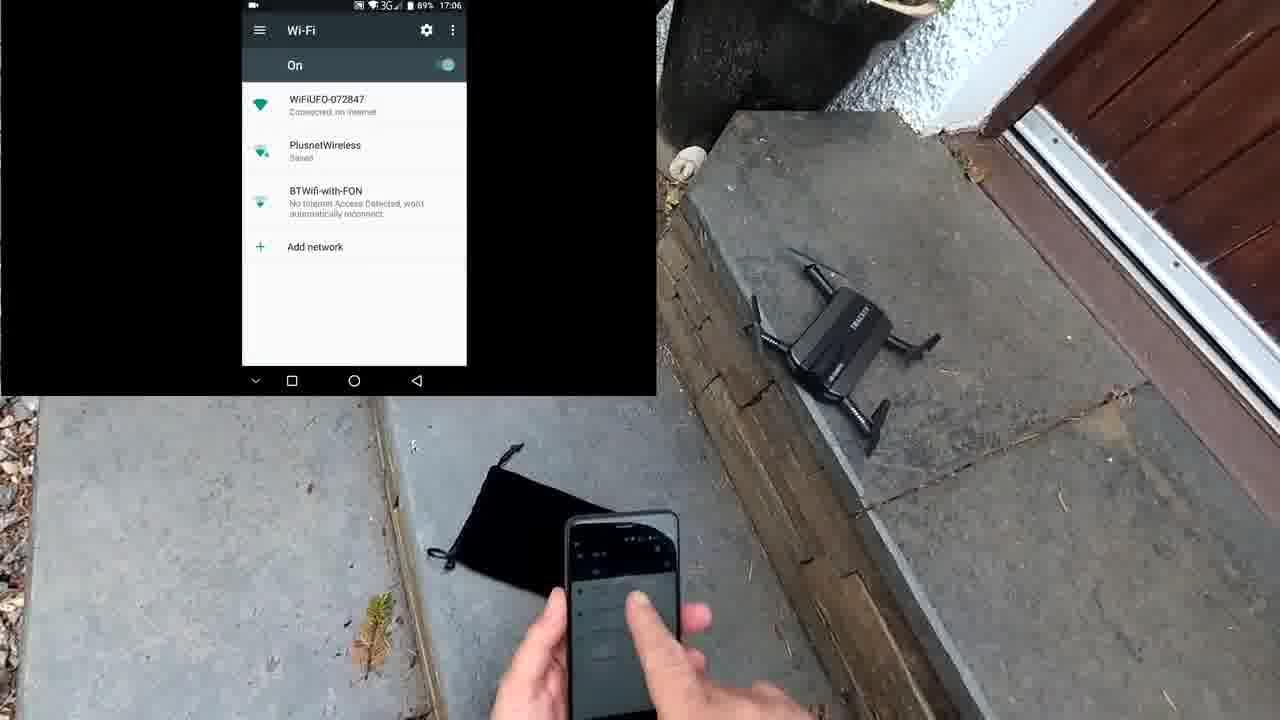drone: (733, 243, 941, 459)
